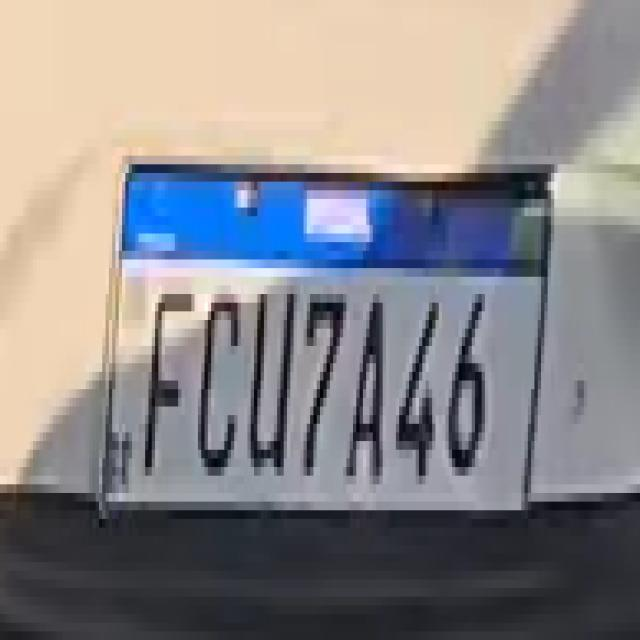Placa_mercosul_carro: (96, 156, 555, 527)
